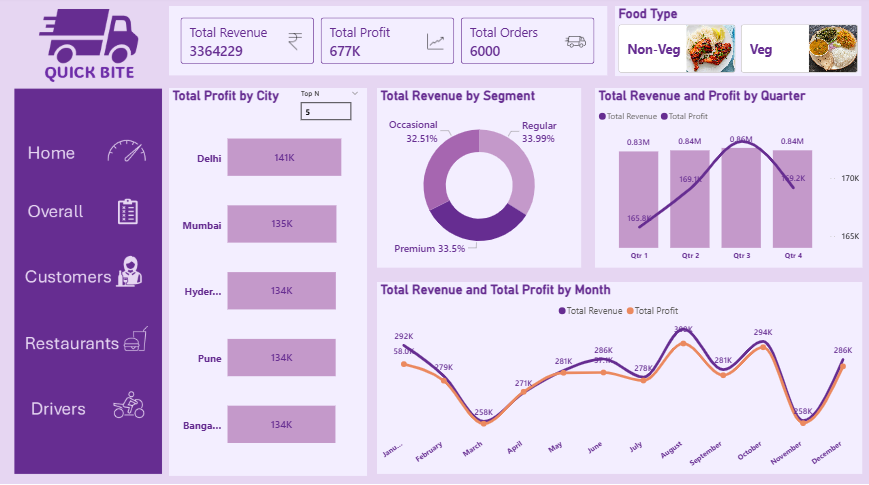

What the dashboard file says about the page in this screenshot:
{"tool":"powerbi","page":{"name":"Overall","canvas":[1280,720],"ordinal":1},"visuals":[{"type":"lineChart","fields":{"Category":["master_sheet.Order_Date.Variation.Date Hierarchy.Month"],"Y":["master_sheet.Total Revenue"],"Y2":["master_sheet.Total Profit"]},"box":[555.8,420.4,713.2,281.8],"z":0},{"type":"advancedSlicerVisual","fields":{"Values":["master_sheet.food_type"]},"box":[905.4,14,362.1,103],"z":1000},{"type":"donutChart","fields":{"Category":["master_sheet.Segment"],"Y":["Sum(master_sheet.Final_Amount)"]},"box":[555.1,135,300.3,263.9],"z":2000},{"type":"lineClusteredColumnComboChart","title":"Total Revenue and Profit by Quarter","fields":{"Category":["master_sheet.Order_Date.Variation.Date Hierarchy.Year","master_sheet.Order_Date.Variation.Date Hierarchy.Quarter","master_sheet.Order_Date.Variation.Date Hierarchy.Month","master_sheet.Order_Date.Variation.Date Hierarchy.Day"],"Y":["master_sheet.Total Revenue"],"Y2":["master_sheet.Total Profit"]},"box":[875.1,135,392.8,263.9],"z":3000},{"type":"barChart","fields":{"Category":["master_sheet.City"],"Y":["master_sheet.Total Profit"]},"box":[250.3,135.4,291.3,569.9],"z":4000},{"type":"slicer","fields":{"Values":["Top N.Top N"]},"box":[430.5,132.2,110.2,73.5],"z":5000},{"type":"cardVisual","fields":{"Data":["master_sheet.Total Revenue","master_sheet.Total Profit","master_sheet.Total Orders"]},"box":[250.3,14.2,643.9,102.3],"z":6000},{"type":"actionButton","box":[22.7,0,216.9,131.9],"z":6001},{"type":"pageNavigator","box":[22.7,160.8,216.9,505],"z":6002}]}

Visuals, with their boxes in screenshot pixels (x1, y1, x2, y2), scaled from the page's 1280x720 canvas onto the 869x485 screenshot:
lineChart - master_sheet.Order_Date.Variation.Date Hierarchy.Month x master_sheet.Total Revenue: (left=377, top=283, right=862, bottom=473)
advancedSlicerVisual - master_sheet.food_type: (left=615, top=9, right=861, bottom=79)
donutChart - master_sheet.Segment x Sum(master_sheet.Final_Amount): (left=377, top=91, right=581, bottom=269)
"Total Revenue and Profit by Quarter" lineClusteredColumnComboChart: (left=594, top=91, right=861, bottom=269)
barChart - master_sheet.City x master_sheet.Total Profit: (left=170, top=91, right=368, bottom=475)
slicer - Top N.Top N: (left=292, top=89, right=367, bottom=139)
cardVisual - master_sheet.Total Revenue x master_sheet.Total Profit: (left=170, top=10, right=607, bottom=78)
actionButton: (left=15, top=0, right=163, bottom=89)
pageNavigator: (left=15, top=108, right=163, bottom=448)
